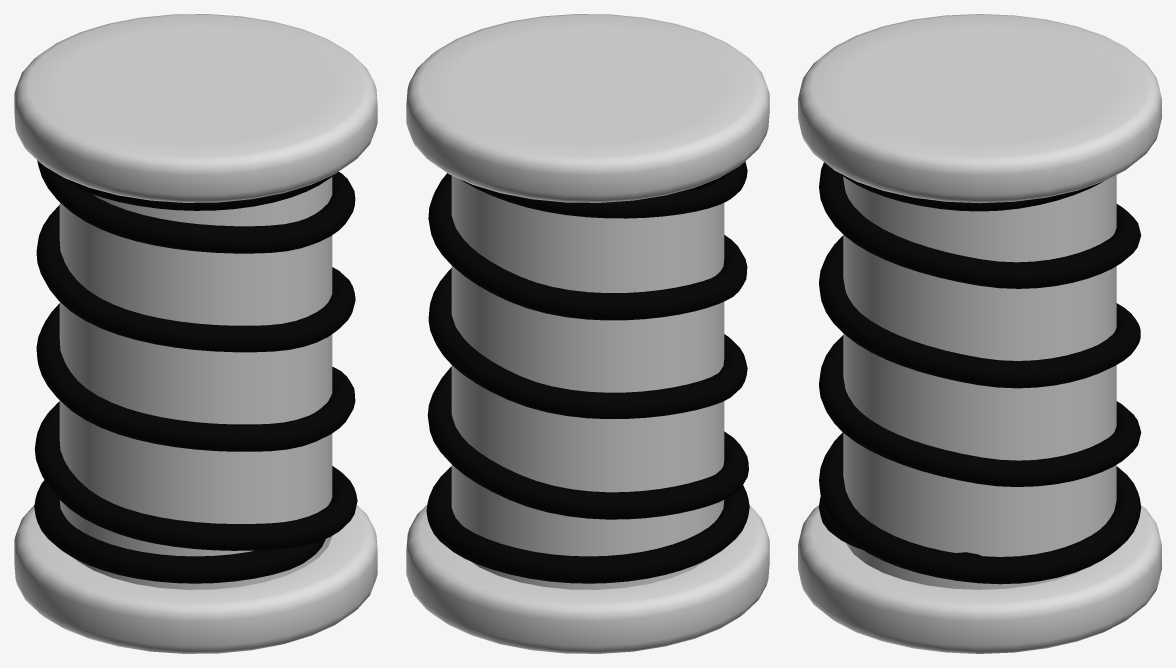
The model's file is MSH_reel.fbx.
The picture shows the model from 3 angles, left to right: view 1: azimuth 30°, elevation 25°; view 2: azimuth 150°, elevation 25°; view 3: azimuth 270°, elevation 25°; orthographic projection.
Visible parts, largest first — view 1: MSH_reel, MSH_reel_rope_01; view 2: MSH_reel, MSH_reel_rope_01; view 3: MSH_reel, MSH_reel_rope_01.
Part boxes in pixels (bbox=[...]): MSH_reel: bbox=[14, 14, 377, 653]; MSH_reel_rope_01: bbox=[34, 160, 357, 583]; MSH_reel: bbox=[406, 14, 769, 653]; MSH_reel_rope_01: bbox=[426, 161, 749, 583]; MSH_reel: bbox=[798, 14, 1161, 653]; MSH_reel_rope_01: bbox=[818, 162, 1141, 584].
Size of the model in its own units: 1.33 by 2 by 1.33.
